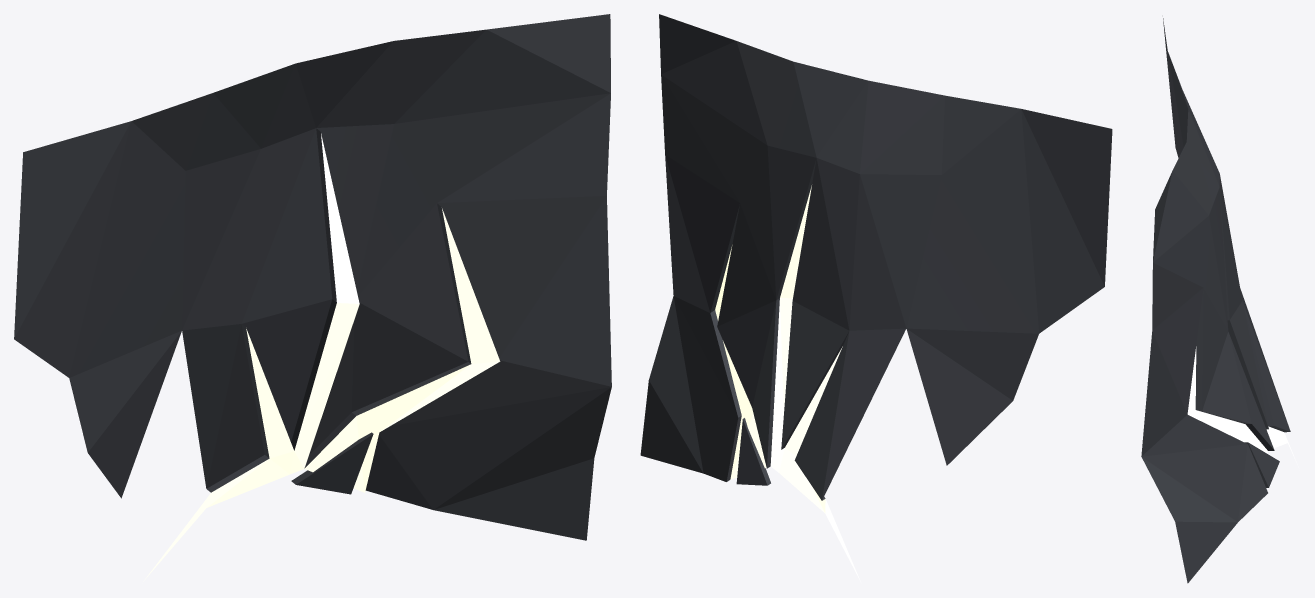
The model's file is DarkStoneWallSmallLavaCracked1.fbx.
3 views of the same model, side by side, from view 1: azimuth 30°, elevation 25°; view 2: azimuth 150°, elevation 25°; view 3: azimuth 270°, elevation 25° (orthographic). The views are drawn at different scales.
Parts seen in each view (by area): view 1: DarkStoneWallSmallLavaCracked1; view 2: DarkStoneWallSmallLavaCracked1; view 3: DarkStoneWallSmallLavaCracked1.
Boxes of the visible parts, box(x1,y1,x2,y2) form: DarkStoneWallSmallLavaCracked1: box(14, 14, 611, 581); DarkStoneWallSmallLavaCracked1: box(640, 14, 1112, 581); DarkStoneWallSmallLavaCracked1: box(1141, 18, 1298, 583).
Bounding box in the file's own units: 920 × 850 × 317.
